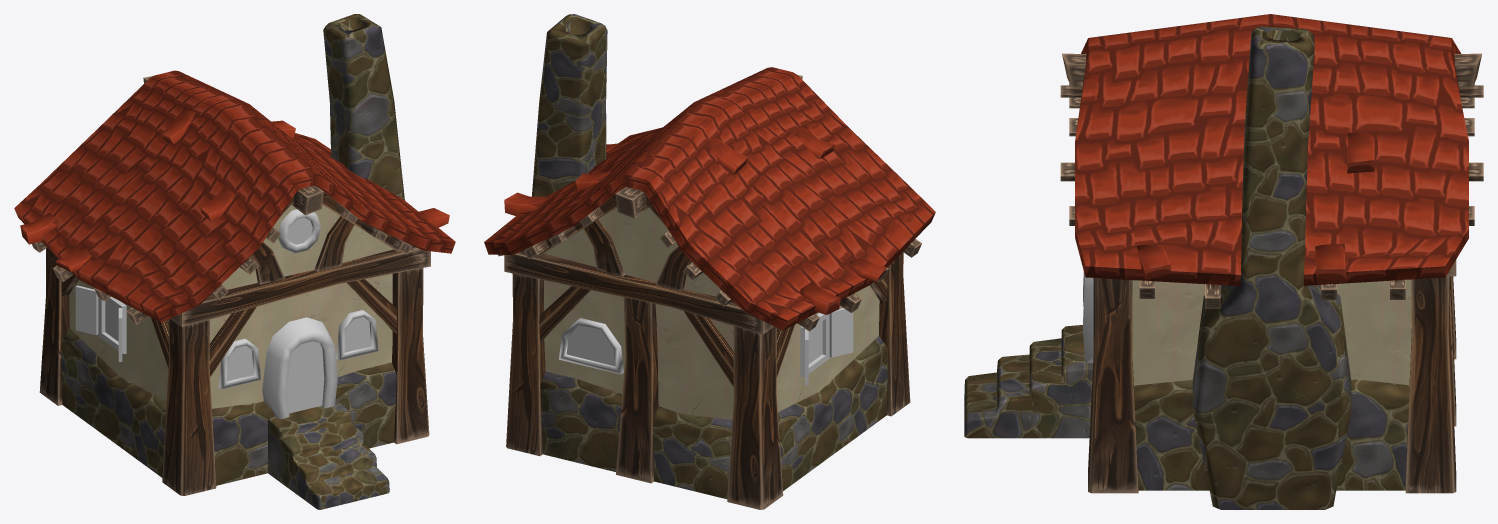
Rendered from cottageA.fbx.
3 renders of one model, left to right at view 1: azimuth 30°, elevation 25°; view 2: azimuth 150°, elevation 25°; view 3: azimuth 270°, elevation 25°, orthographic. The views are drawn at different scales.
Parts seen in each view (by area): view 1: cottageA; view 2: cottageA; view 3: cottageA.
Boxes of the visible parts, box(x1,y1,x2,y2) form: cottageA: box(14, 14, 455, 509); cottageA: box(484, 14, 935, 509); cottageA: box(964, 14, 1483, 509).
Size of the model in its own units: 1374 by 1386 by 1419.
